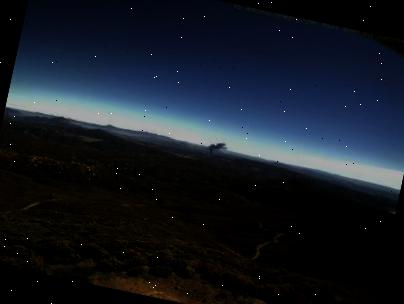smoke: (206, 138, 230, 159)
